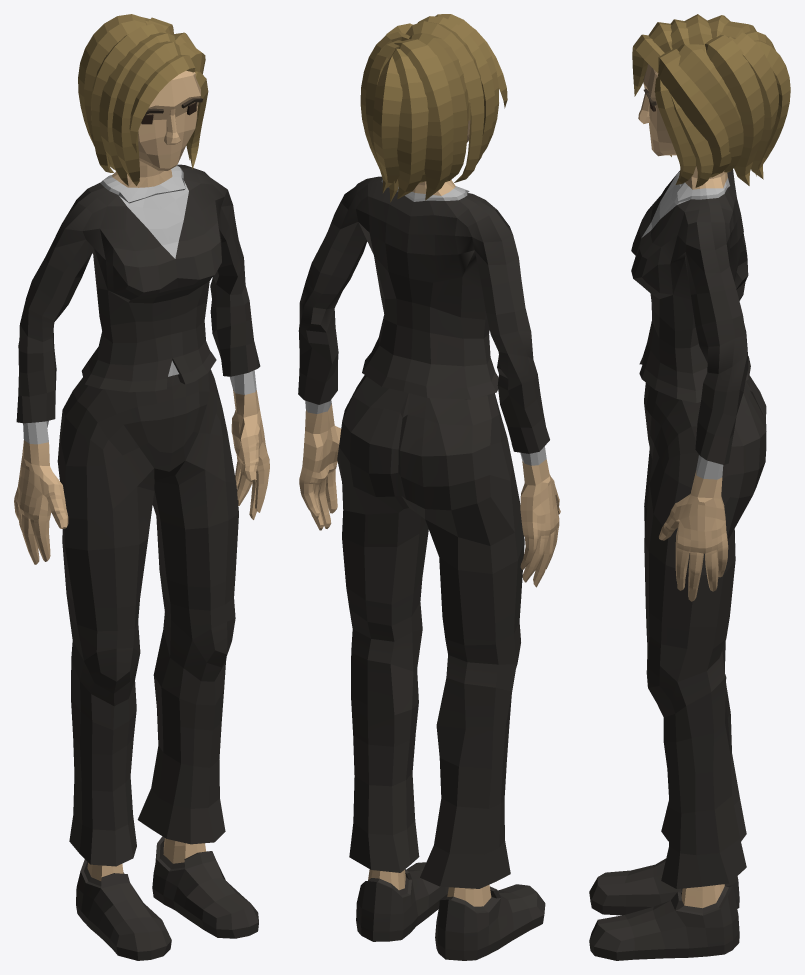
Rendered from suit-woman.glb.
3 views of the same model, side by side, from view 1: azimuth 30°, elevation 25°; view 2: azimuth 150°, elevation 25°; view 3: azimuth 270°, elevation 25° (orthographic). The views are drawn at different scales.
Parts seen in each view (by area): view 1: Suit_Legs, Suit_Body, Suit_Head, Suit_Feet; view 2: Suit_Legs, Suit_Body, Suit_Head, Suit_Feet; view 3: Suit_Legs, Suit_Body, Suit_Head, Suit_Feet.
Boxes of the visible parts, left/top/right/bottom form: Suit_Legs: left=57, top=369, right=238, bottom=866; Suit_Body: left=14, top=164, right=269, bottom=564; Suit_Head: left=78, top=14, right=208, bottom=185; Suit_Feet: left=76, top=836, right=258, bottom=960; Suit_Legs: left=337, top=375, right=524, bottom=888; Suit_Body: left=298, top=176, right=560, bottom=587; Suit_Head: left=360, top=14, right=507, bottom=202; Suit_Feet: left=356, top=862, right=545, bottom=960; Suit_Legs: left=644, top=375, right=766, bottom=888; Suit_Body: left=631, top=169, right=750, bottom=601; Suit_Head: left=632, top=14, right=790, bottom=187; Suit_Feet: left=589, top=858, right=739, bottom=960.
Bounding box in the file's own units: 0.5208 × 1.84 × 0.3697.
